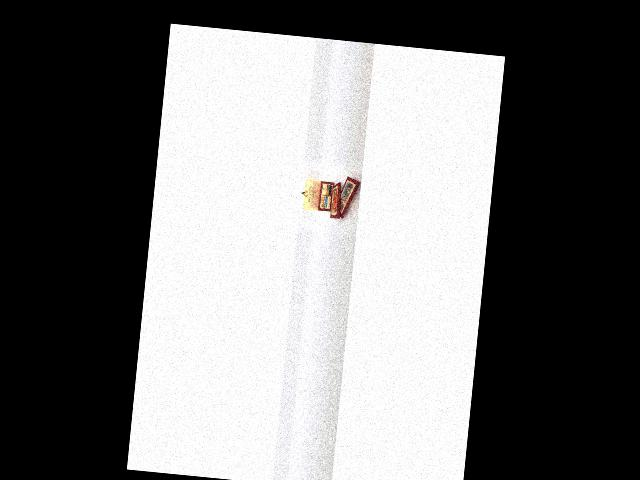chocolate: (335, 167, 364, 222)
